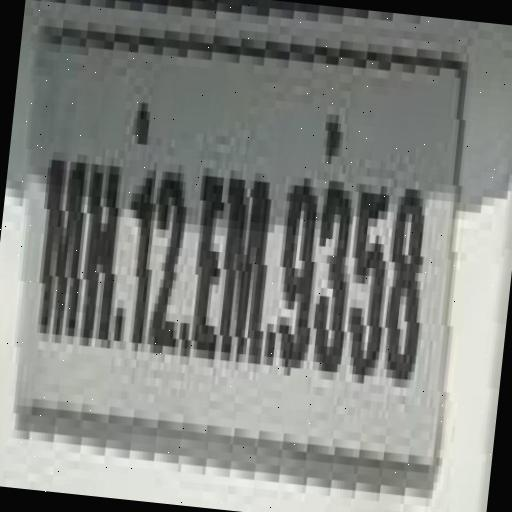number plate: (1, 10, 474, 440)
